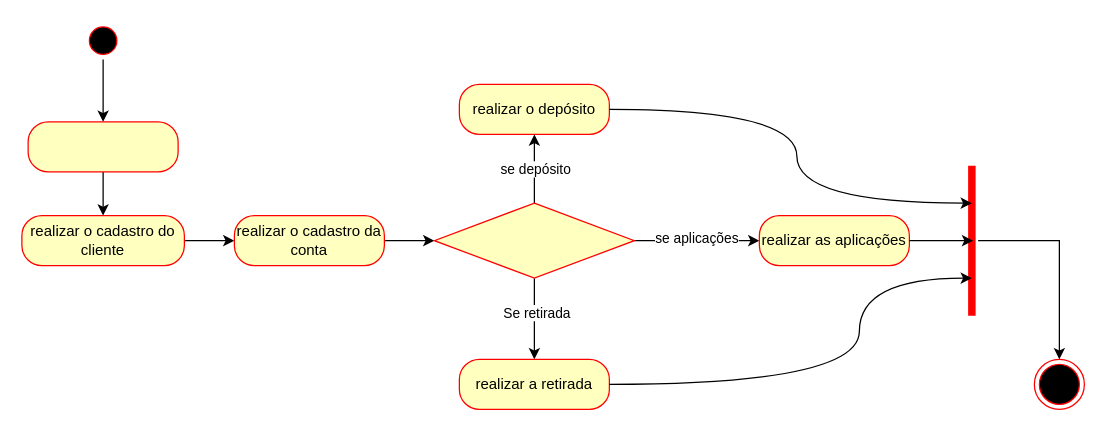
This 1106x431 diagram has some shape labels left out. The centre of each missing label's shape, as x and y in pixels:
"cadastros" belongs at point (102, 146).
"Serviços de depósitos, retirada e aplicações" belongs at point (533, 240).
